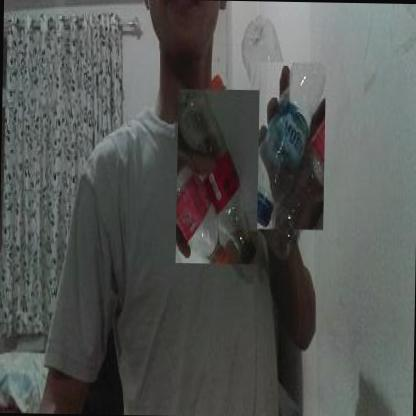plastic_bottles: (205, 70, 300, 260), (178, 89, 256, 264), (249, 64, 325, 229)
